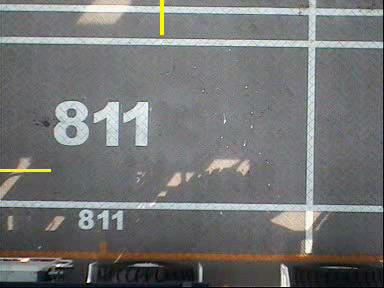groundmarker_2: (105, 76, 164, 110), (105, 228, 163, 262)
